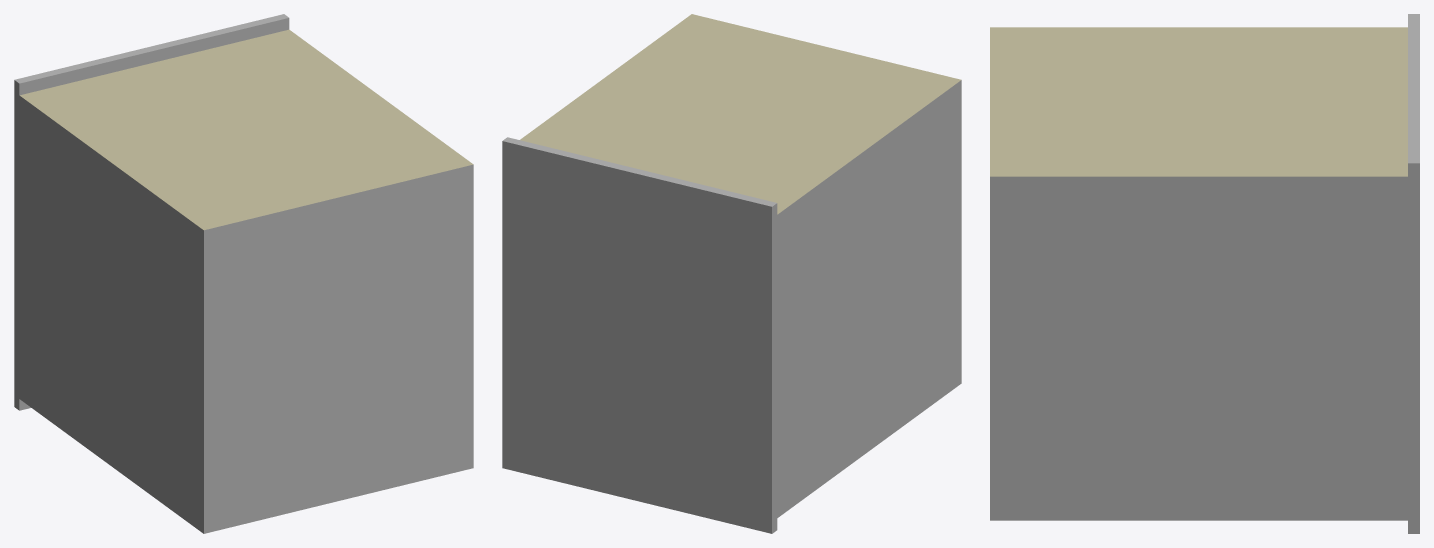
Rendered from Drawer_Grey.dae.
3 renders of one model, left to right at view 1: azimuth 30°, elevation 25°; view 2: azimuth 150°, elevation 25°; view 3: azimuth 270°, elevation 25°, orthographic. The views are drawn at different scales.
Parts seen in each view (by area): view 1: node0; view 2: node0; view 3: node0.
Boxes of the visible parts, x1=… form: node0: x1=14, y1=14, x2=473, y2=533; node0: x1=502, y1=14, x2=961, y2=533; node0: x1=990, y1=14, x2=1419, y2=533.
Bounding box in the file's own units: 0.6 × 0.73 × 0.695.
